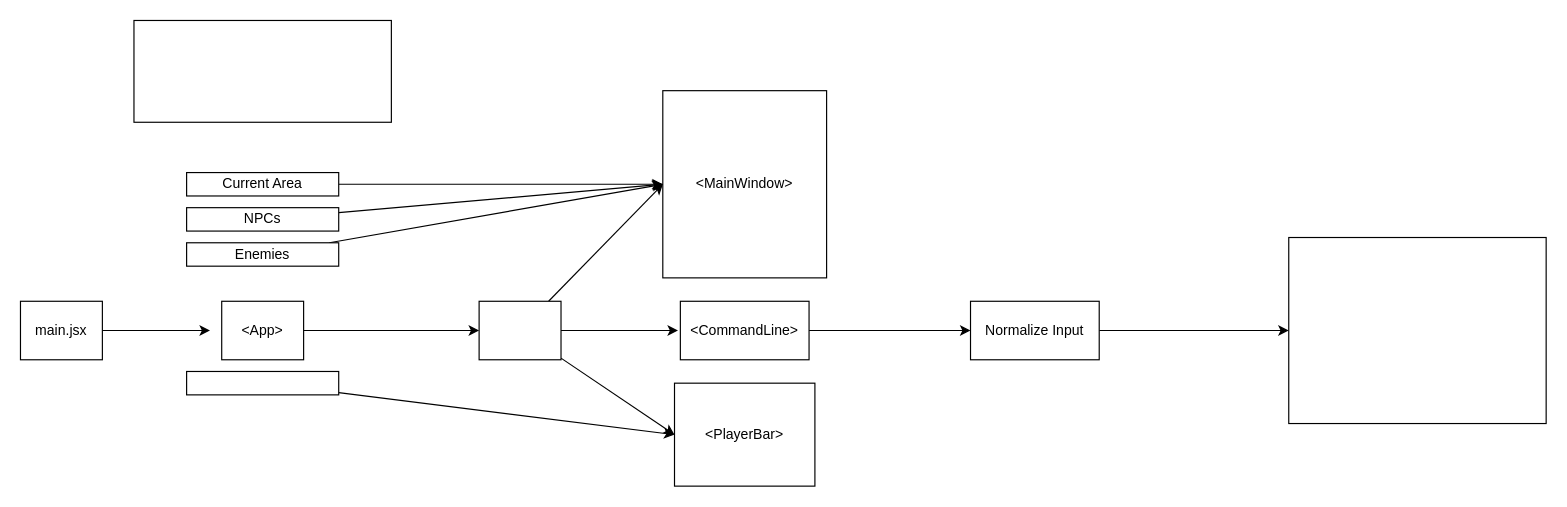
The diagram is 1567 pixels wide and 507 high, and some of its shapes have lost their labels. Here are the shapes that lost their labels. From the top down, the centre of each, then its label:
At point 262,70: "<GameProvider>".
At point 519,330: "<UI>".
At point 1417,330: "Functions list".
At point 262,382: "Player".
